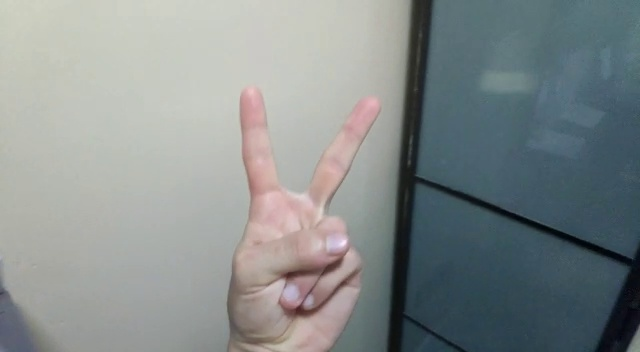Peace: (209, 85, 393, 350)
